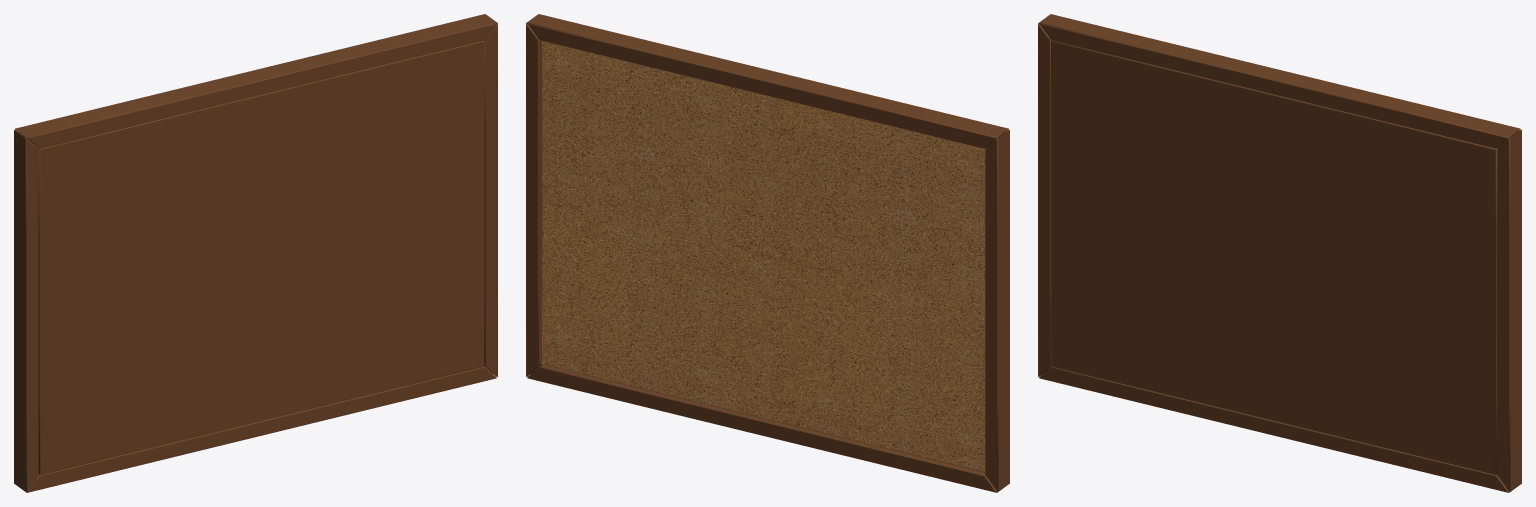
File: soviet board.fbx
3 renders of one model, left to right at view 1: azimuth 30°, elevation 25°; view 2: azimuth 150°, elevation 25°; view 3: azimuth 330°, elevation 25°, orthographic.
Visible parts, largest first — view 1: Plane.037, Plane.035; view 2: Plane.037, Plane.035; view 3: Plane.037, Plane.035.
Boxes of the visible parts, x1,y1,x2,y2 form: Plane.037: (36, 40, 484, 474); Plane.035: (14, 14, 497, 492); Plane.037: (542, 41, 987, 472); Plane.035: (526, 14, 1009, 492); Plane.037: (1051, 40, 1498, 474); Plane.035: (1038, 14, 1521, 492).
Bounding box in the file's own units: 250 × 180 × 11.67.
2 materials, 1 textured.
